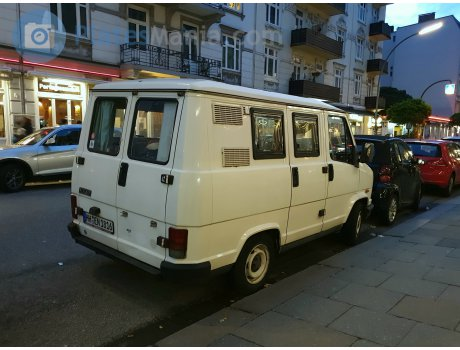License Plates: (82, 211, 113, 229)
